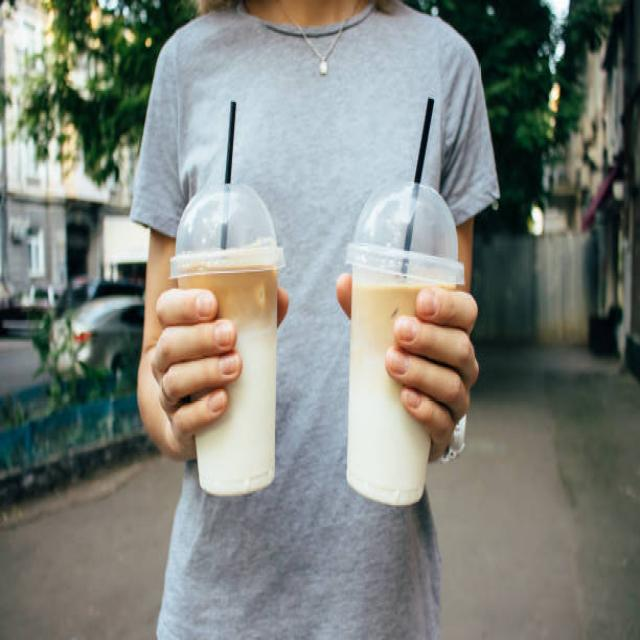cup: (344, 179, 466, 510), (168, 182, 286, 497)
